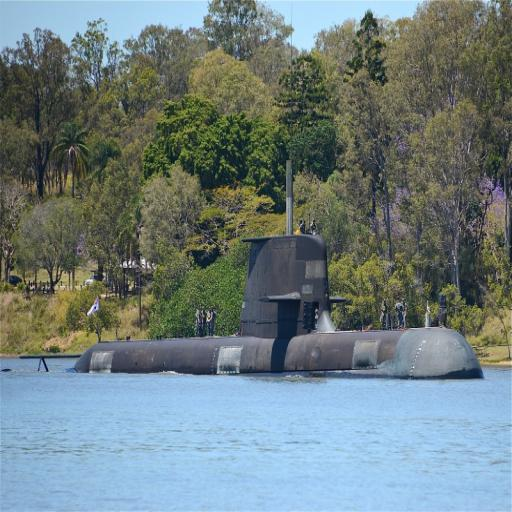submarine: (76, 234, 483, 378)
